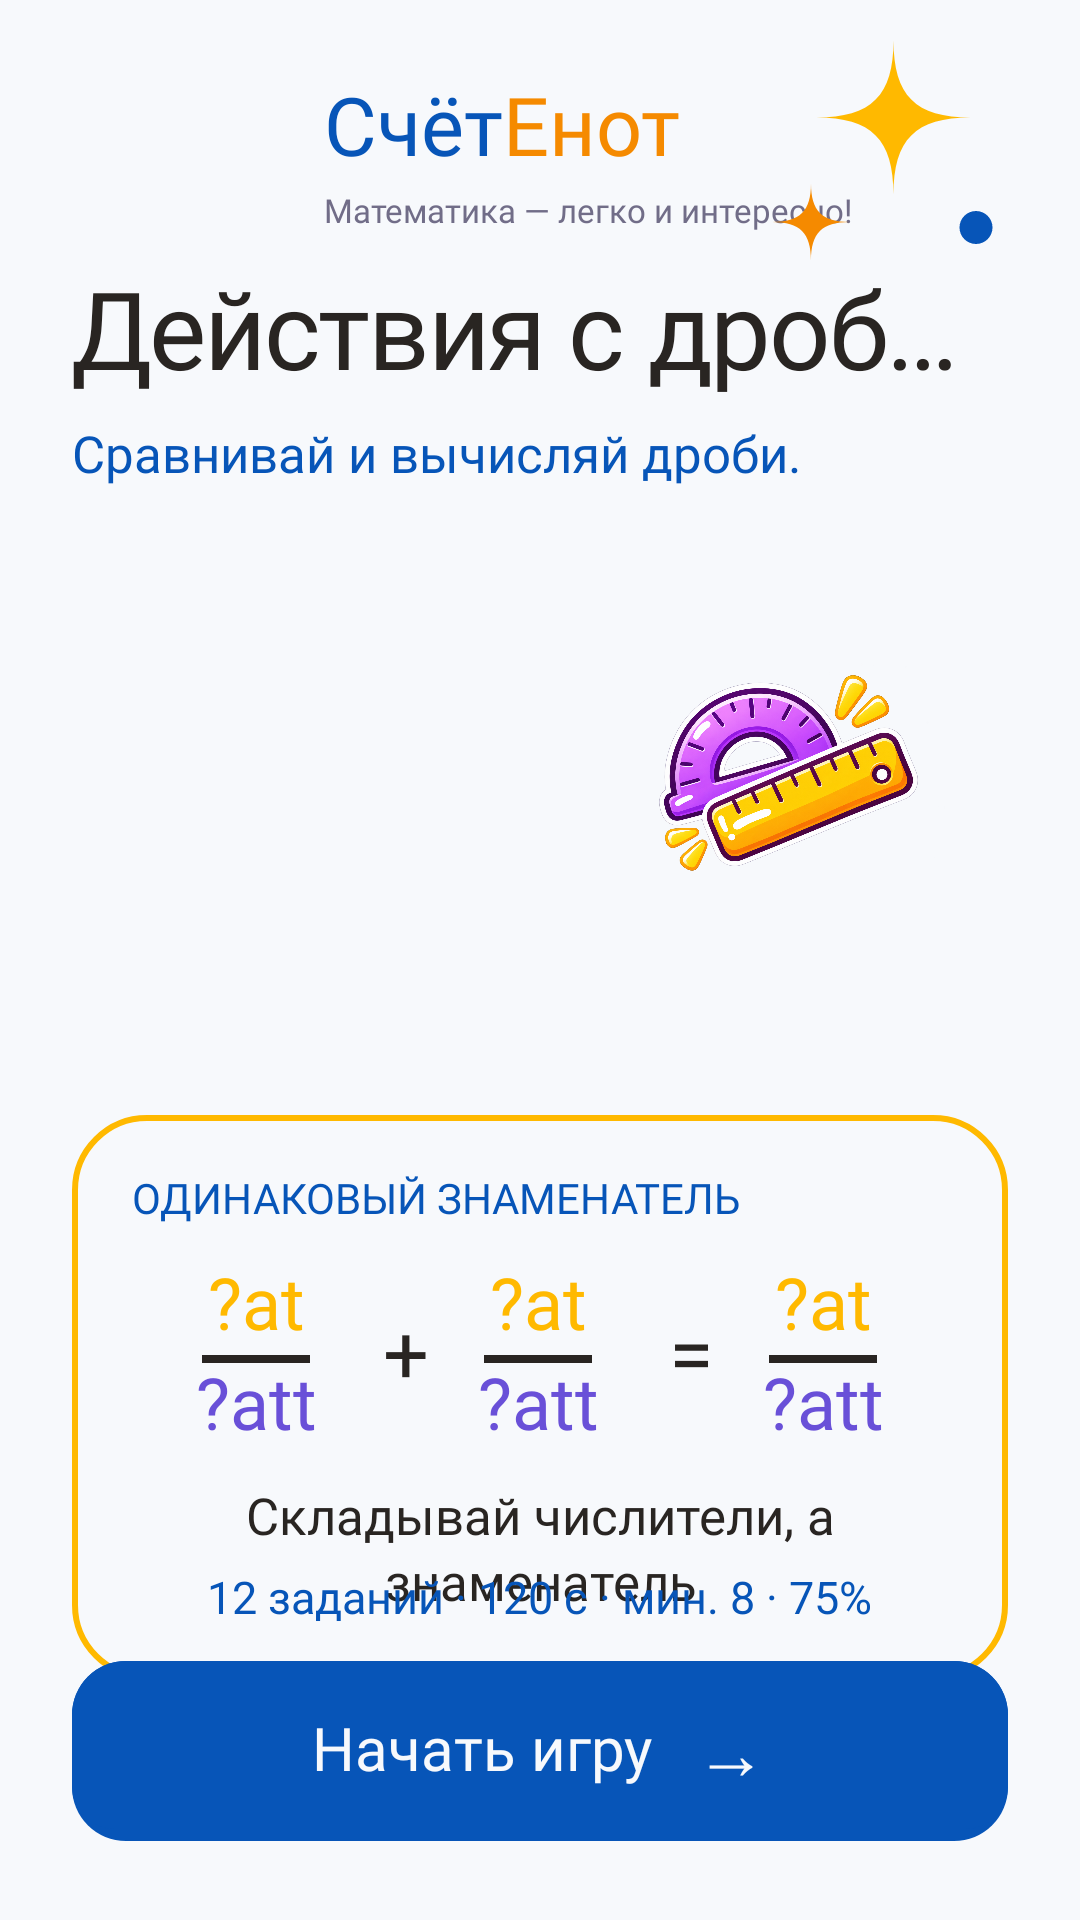

Screen size 1080px×1920px. Icon name, then its box in pixels as [x1, y1, x2, y2]:
decor math tools: [659, 675, 918, 871]
decor sparkles: [756, 42, 993, 259]
